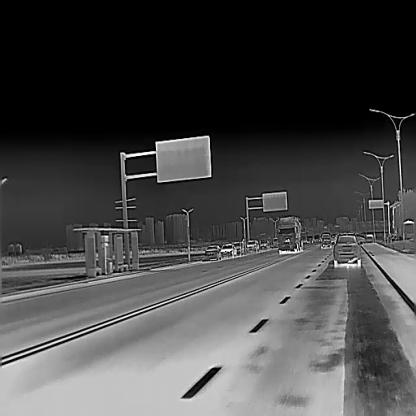car: (332, 232, 362, 268), (204, 244, 221, 258), (220, 243, 236, 256), (320, 232, 331, 250), (246, 239, 259, 251), (232, 240, 242, 254), (258, 239, 270, 248), (365, 232, 374, 243), (314, 235, 319, 242)
truck: (275, 214, 303, 255)
